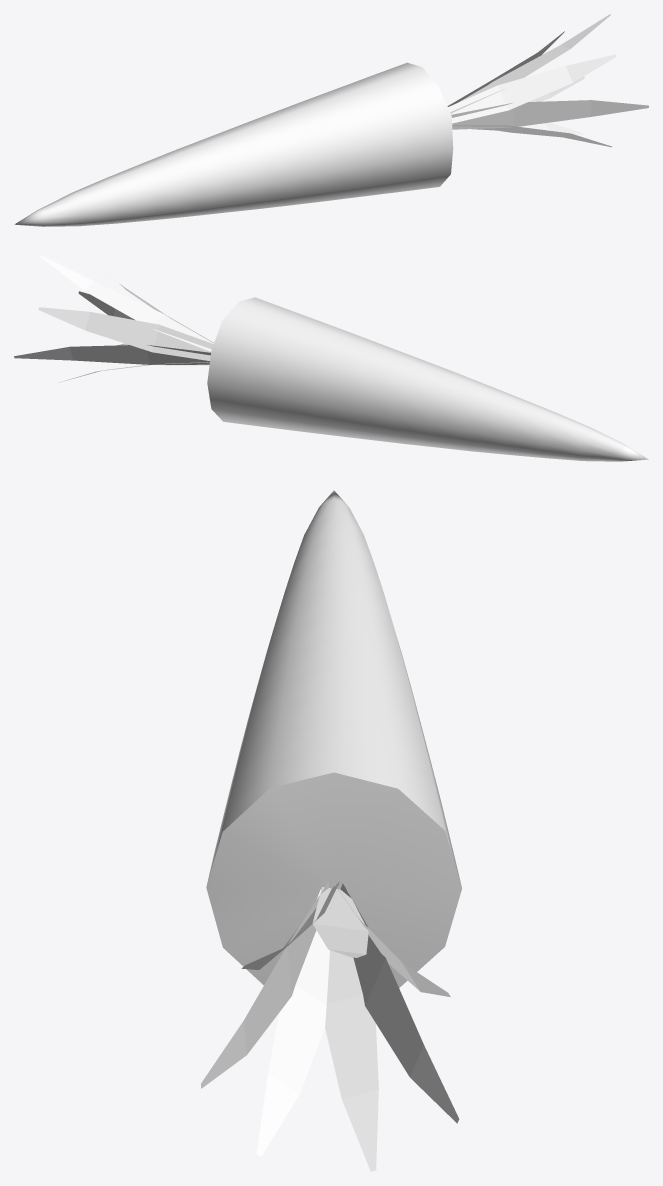
The model's file is carrot.glb.
3 views of the same model, one above another, from view 1: azimuth 30°, elevation 25°; view 2: azimuth 150°, elevation 25°; view 3: azimuth 270°, elevation 25° (orthographic). The views are drawn at different scales.
Parts seen in each view (by area): view 1: Carrot; view 2: Carrot; view 3: Carrot.
Boxes of the visible parts, box(x1,y1,x2,y2) form: Carrot: box(14, 14, 648, 226); Carrot: box(14, 255, 648, 461); Carrot: box(201, 490, 461, 1171).
Bounding box in the file's own units: 0.2707 × 0.0508 × 0.0509.
1 material, 1 textured.
